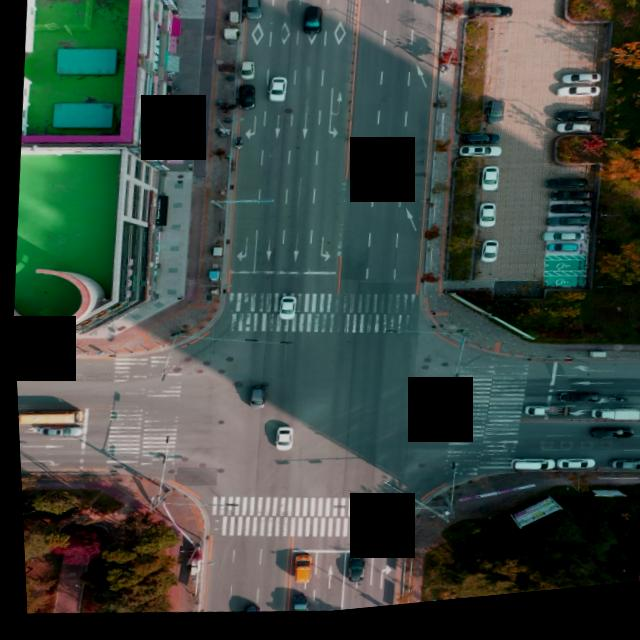car: (503, 464, 554, 482), (552, 114, 596, 133), (542, 184, 587, 202), (583, 434, 628, 452), (552, 398, 599, 415), (556, 91, 599, 109), (456, 151, 499, 168), (35, 422, 80, 438), (545, 222, 586, 238), (547, 195, 588, 211), (467, 9, 505, 26), (286, 556, 307, 586), (540, 239, 581, 254), (559, 80, 600, 95), (302, 9, 323, 38), (552, 466, 590, 482), (605, 467, 640, 484), (460, 135, 497, 151), (544, 212, 586, 226), (342, 560, 363, 587), (483, 106, 504, 133), (555, 128, 592, 143), (477, 173, 498, 199), (268, 79, 288, 105), (276, 299, 296, 325), (477, 246, 497, 271), (475, 210, 495, 235), (271, 429, 291, 453), (245, 387, 264, 411), (236, 89, 255, 113), (546, 250, 580, 263), (244, 0, 262, 23), (238, 63, 255, 84), (236, 607, 255, 618), (13, 357, 31, 367)
small_bus: (14, 402, 80, 427)
small_truck: (586, 416, 638, 436), (522, 411, 565, 429), (284, 599, 303, 618)
